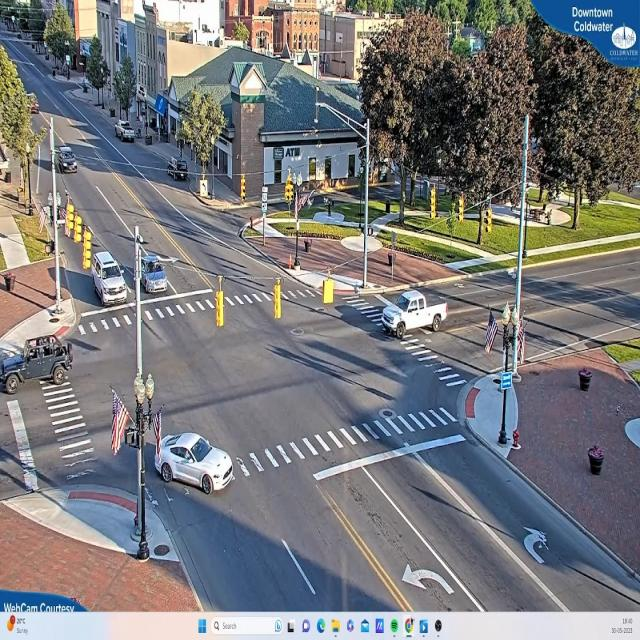car: (154, 432, 234, 496), (3, 326, 71, 399), (380, 288, 449, 341), (92, 255, 128, 306), (140, 252, 171, 297), (164, 158, 190, 180), (56, 150, 78, 173), (116, 124, 136, 142)
